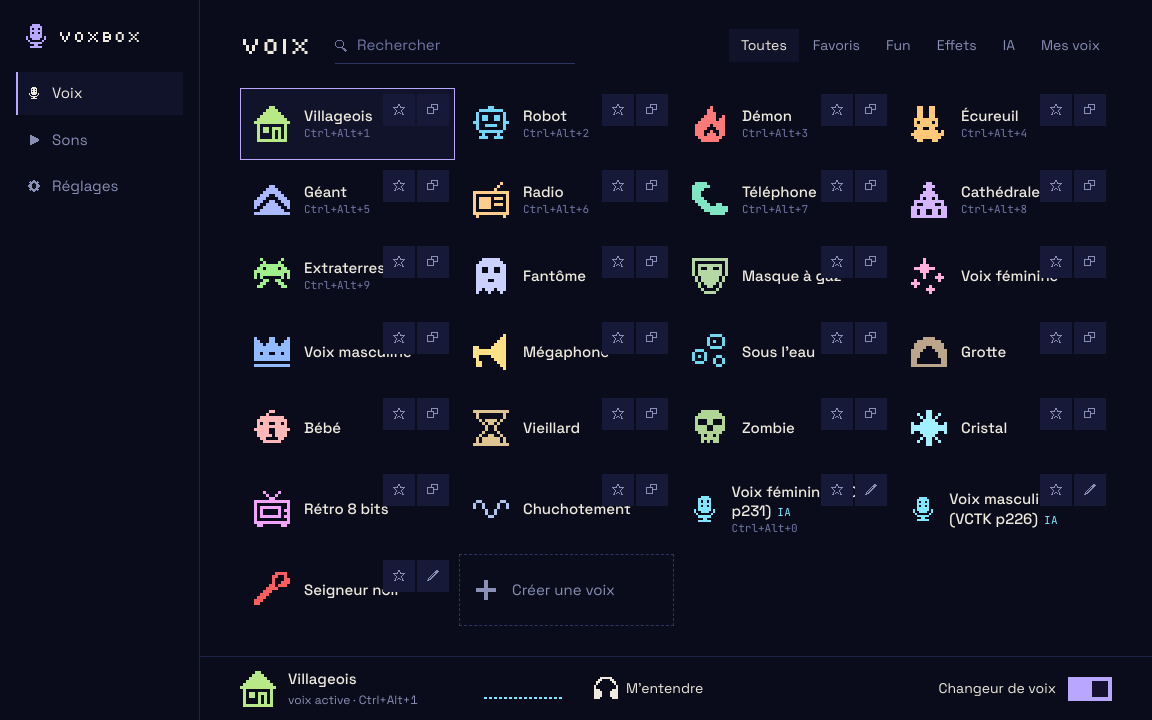
voice selection › toggles the voice changer from the bottom bar
This screenshot has width=1152, height=720.
Click the switch labelled "Changeur de voix".
click(1090, 688)  # box [1068, 676, 1112, 700]
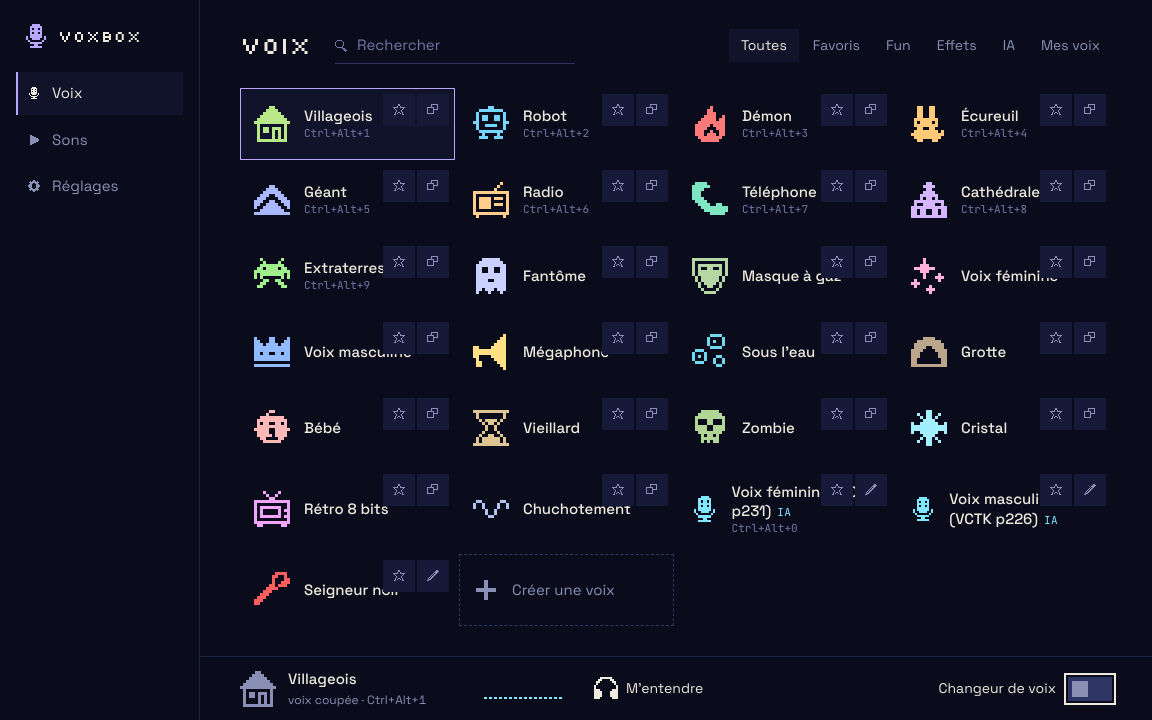
Check: the switch labelled "Changeur de voix" is not checked, box [1068, 676, 1112, 700]
Check: the text "voix coupée · Ctrl+Alt+1" is shown, box [288, 691, 426, 709]
